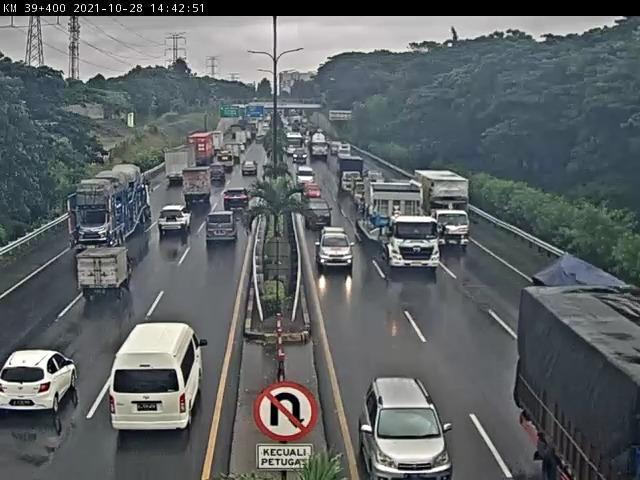bus: (108, 324, 210, 434)
car: (359, 372, 451, 480), (1, 352, 77, 411), (317, 226, 354, 266), (304, 200, 335, 232), (205, 209, 235, 241), (162, 206, 193, 233), (223, 189, 251, 210), (304, 184, 326, 204)
truck: (361, 178, 442, 269), (67, 163, 151, 249), (413, 171, 470, 248), (76, 245, 134, 295), (337, 157, 370, 199), (185, 166, 214, 201)
